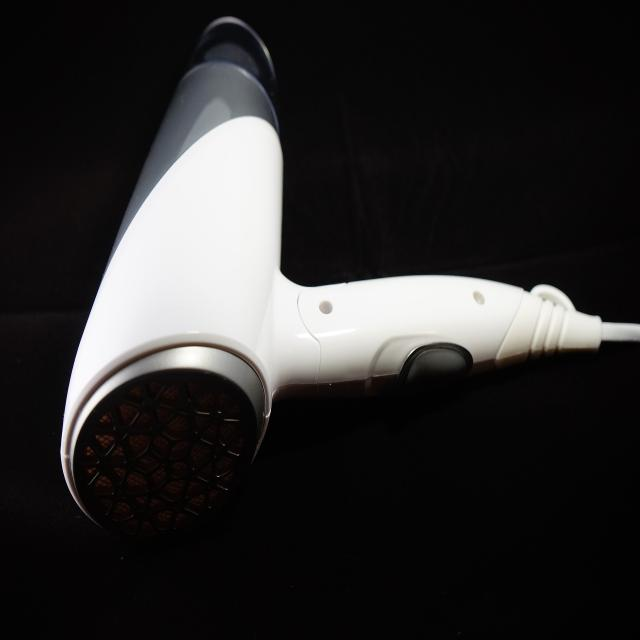dryer: (60, 12, 602, 540)
